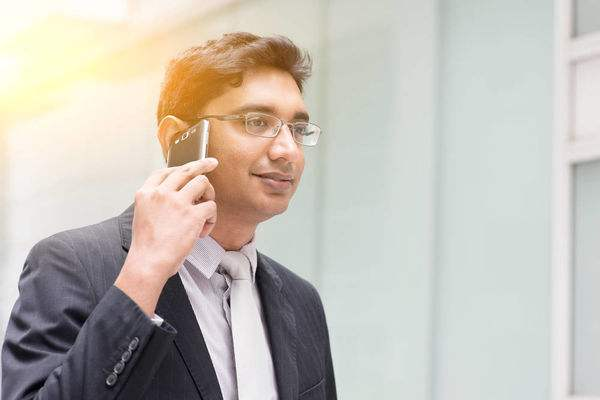calling: (128, 117, 221, 267)
